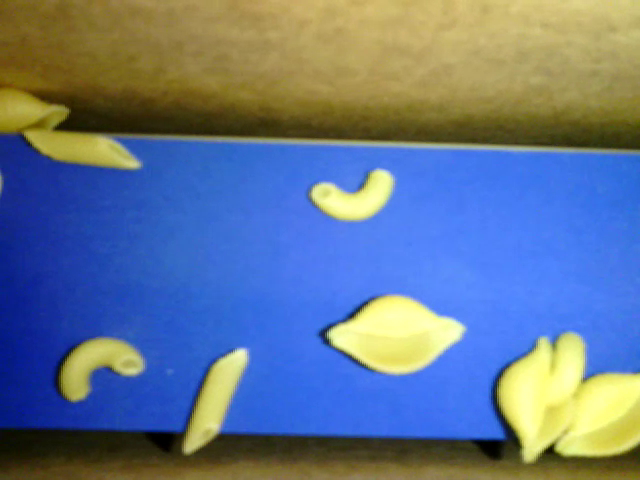elbow: (59, 336, 147, 402), (309, 167, 396, 224), (538, 330, 587, 407)
penne: (180, 344, 250, 452), (23, 127, 140, 171)
shell: (327, 292, 466, 374), (491, 336, 579, 463), (555, 369, 639, 456), (1, 83, 71, 134)
